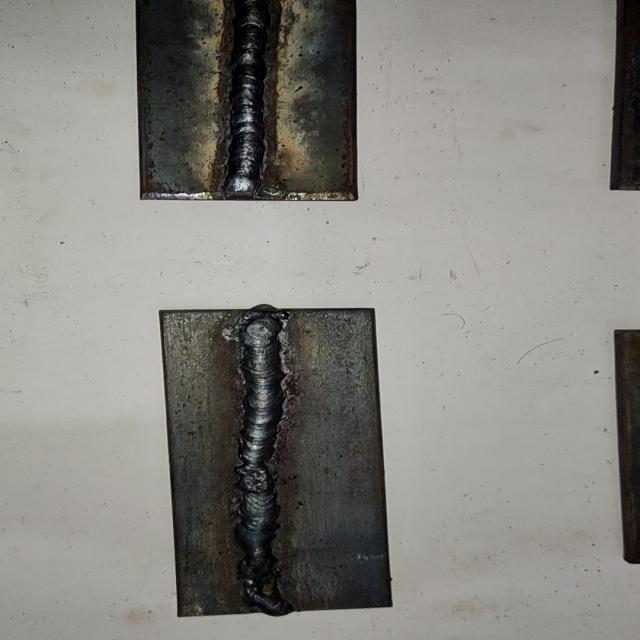Defect: (222, 566, 302, 612)
Welding Line: (235, 312, 292, 612), (228, 0, 274, 196)
Workpiece: (150, 304, 400, 618), (134, 0, 366, 206)
